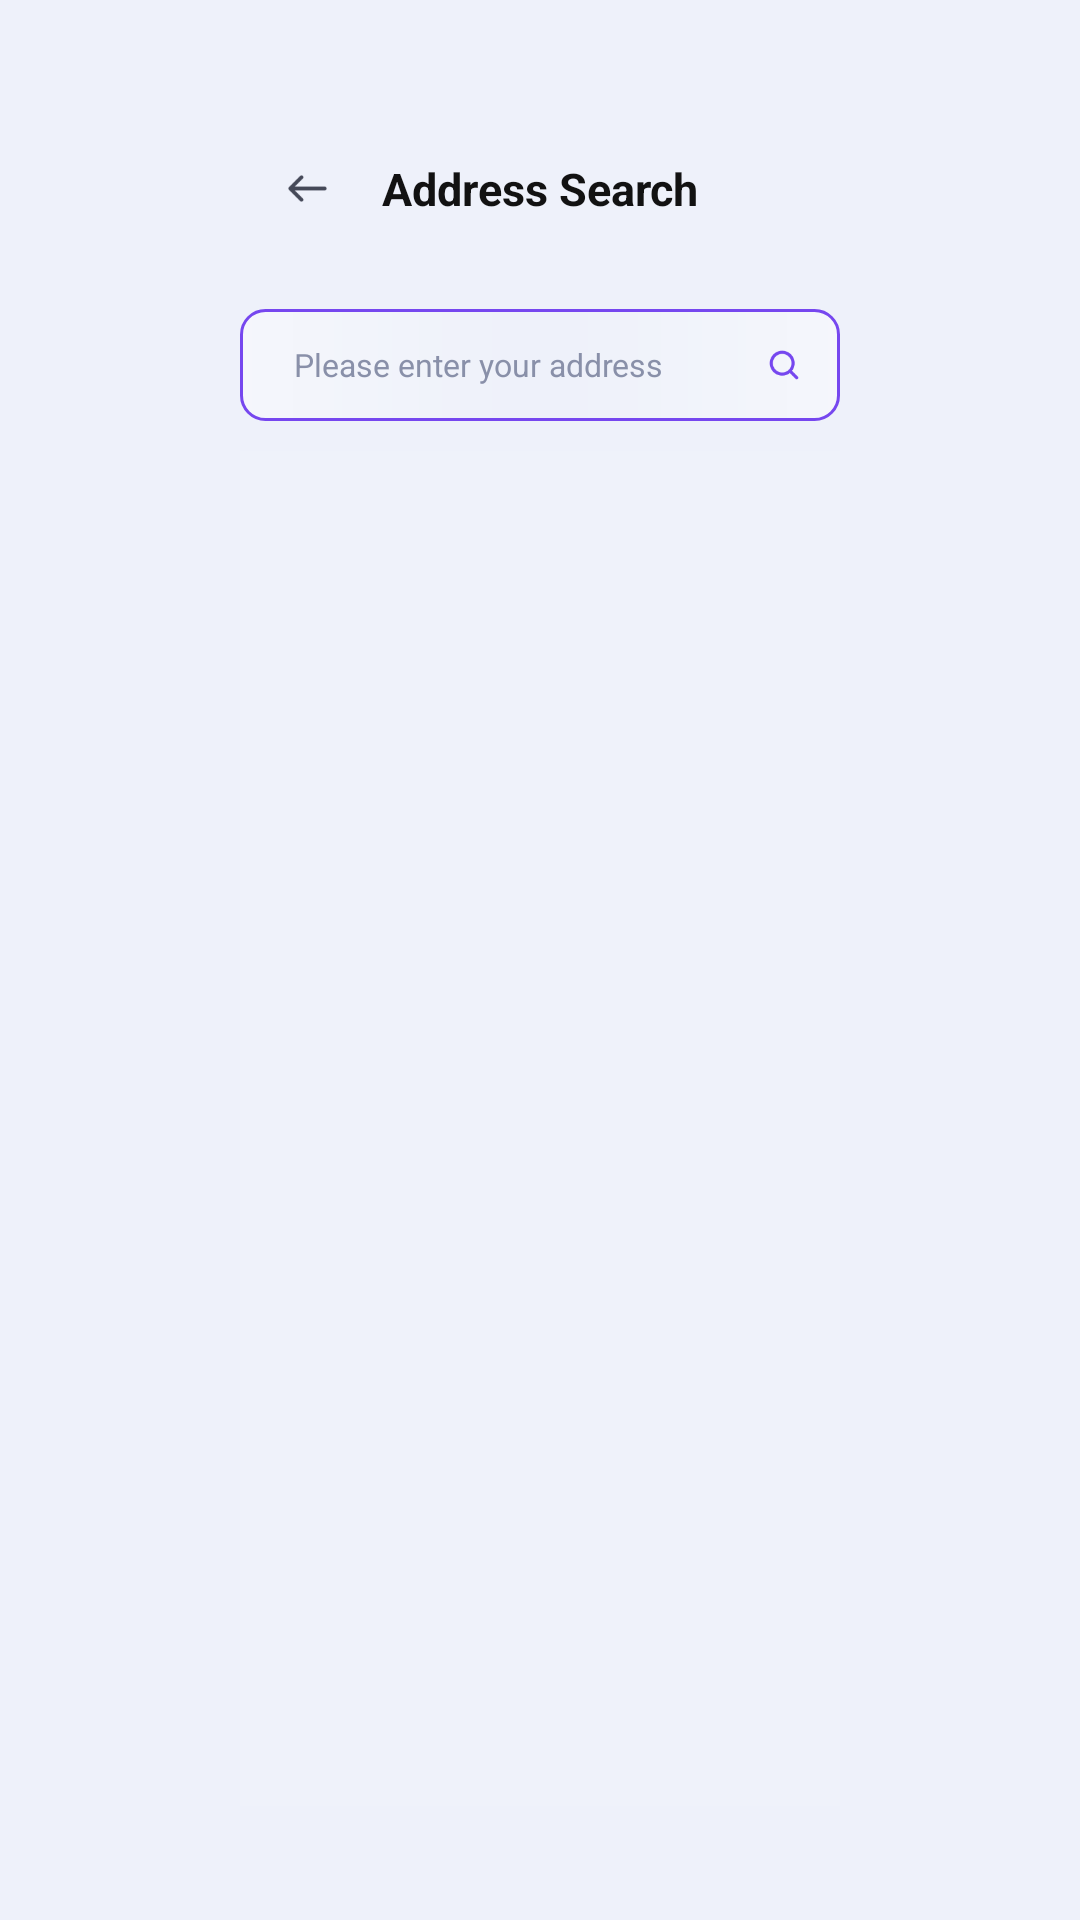

Screen size 1080w x 1920h. Icon name, then its center in pixels as (x,y):
back: (307,188)
searchpurple: (784,365)
